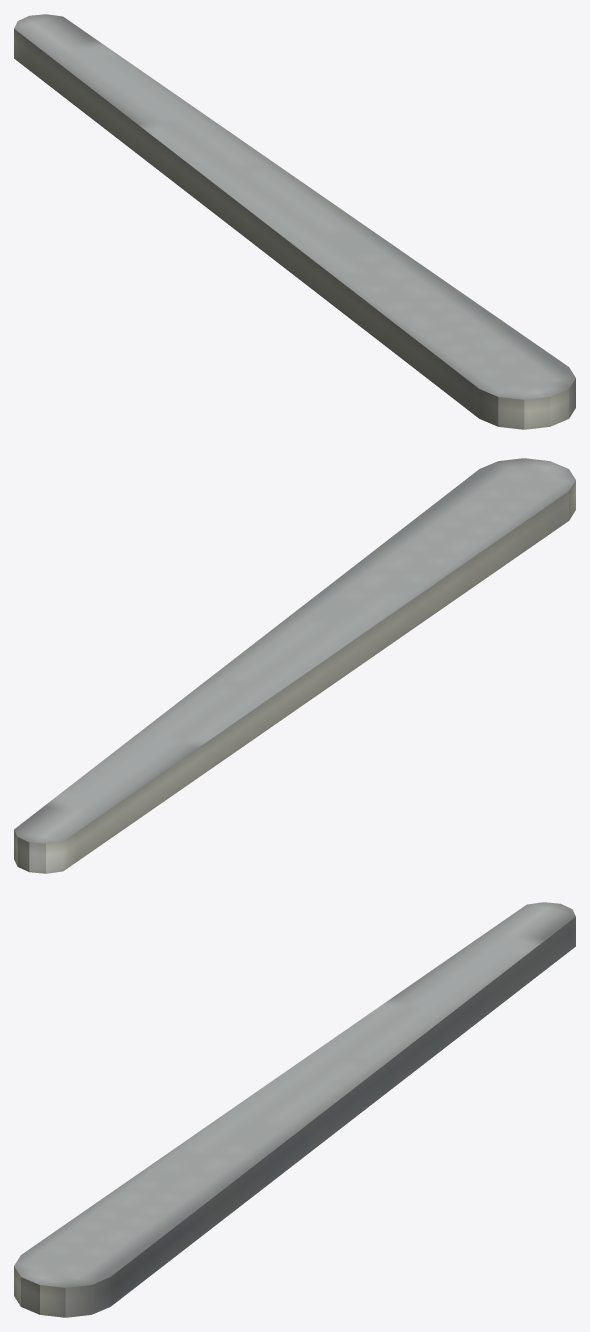
The model's file is 旁通阀前球阀.obj.
3 views of the same model, one above another, from view 1: azimuth 30°, elevation 25°; view 2: azimuth 150°, elevation 25°; view 3: azimuth 330°, elevation 25° (orthographic).
Parts seen in each view (by area): view 1: default006; view 2: default006; view 3: default006.
Part boxes in pixels (<box>): default006: <box>14,14,575,429</box>; default006: <box>14,458,575,873</box>; default006: <box>14,902,575,1317</box>.
Size of the model in its own units: 0.2642 by 0.0842 by 2.66.
